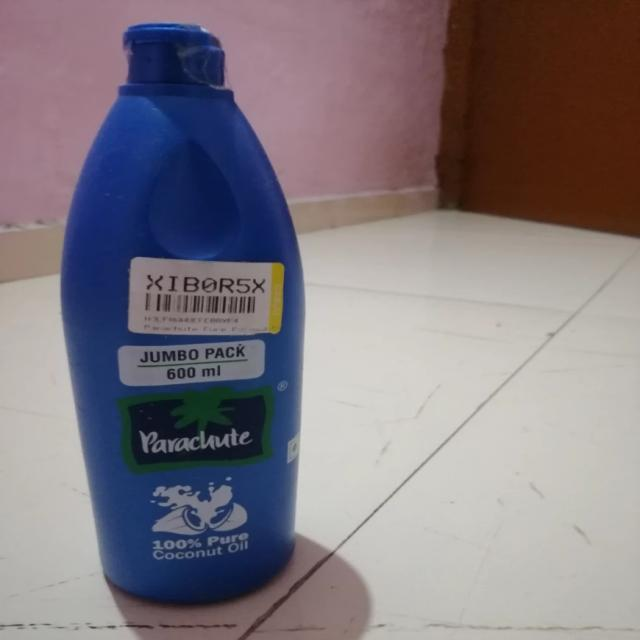parachute_oil: (55, 26, 308, 608)
